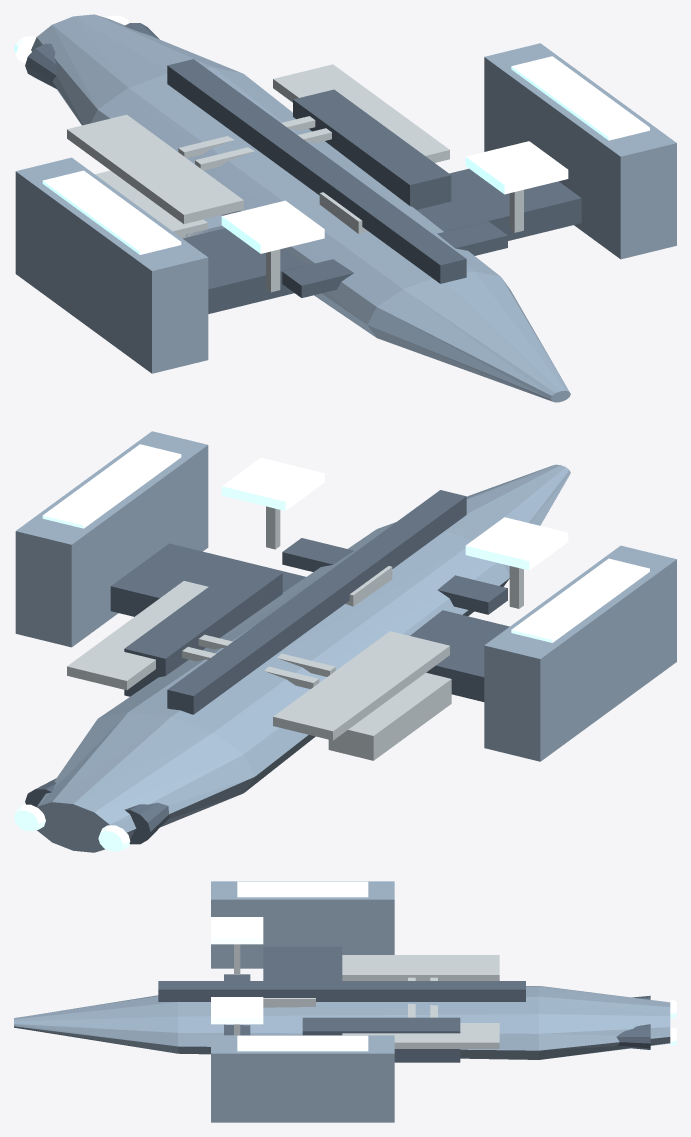
3 views of the same model, one above another, from view 1: azimuth 30°, elevation 25°; view 2: azimuth 150°, elevation 25°; view 3: azimuth 270°, elevation 25° (orthographic). The views are drawn at different scales.
Size of the model in its own units: 6.22 by 1.41 by 10.1.
